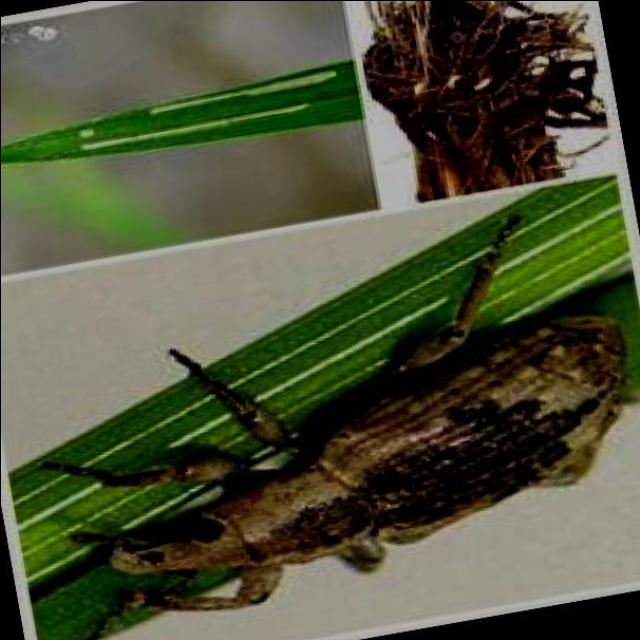ricebug: (49, 221, 625, 611)
